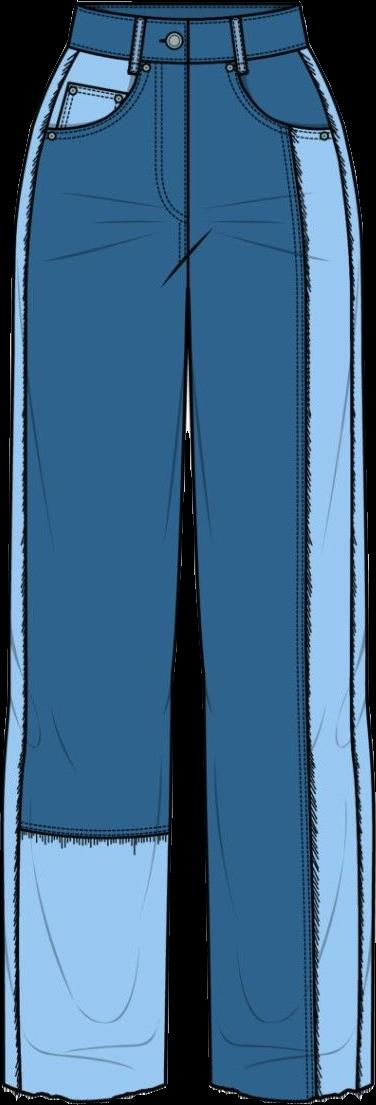Hemline: (205, 1079, 375, 1103), (0, 1080, 169, 1103)
Pantleg: (184, 0, 375, 1100), (4, 0, 187, 1099)
Waistline: (58, 35, 313, 71), (71, 0, 302, 23)
